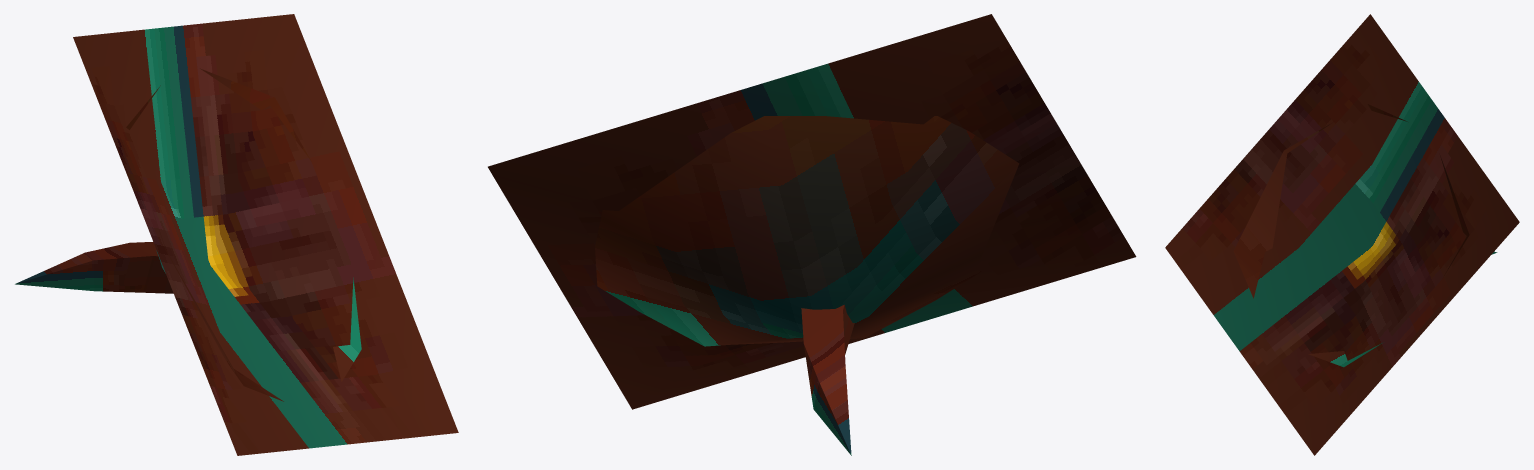
Rendered from flw_cosmos_bk_cap.dae.
3 renders of one model, left to right at view 1: azimuth 30°, elevation 25°; view 2: azimuth 150°, elevation 25°; view 3: azimuth 270°, elevation 25°, orthographic. The views are drawn at different scales.
Parts seen in each view (by area): view 1: flw_cosmos_bk_cap; view 2: flw_cosmos_bk_cap; view 3: flw_cosmos_bk_cap.
Boxes of the visible parts, <box> form: flw_cosmos_bk_cap: <box>15,14,458,455</box>; flw_cosmos_bk_cap: <box>488,14,1136,455</box>; flw_cosmos_bk_cap: <box>1165,14,1519,455</box>.
Size of the model in its own units: 8.81 by 10.98 by 10.98.
1 material, 1 textured.
